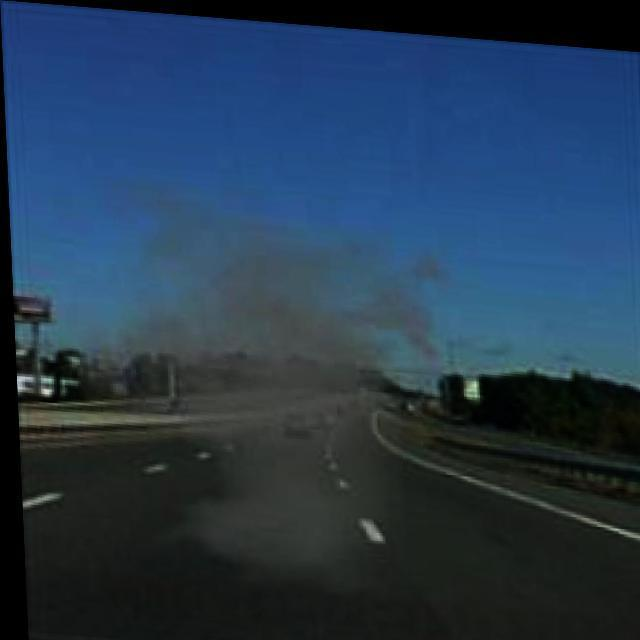Smoke: (105, 188, 503, 594)
